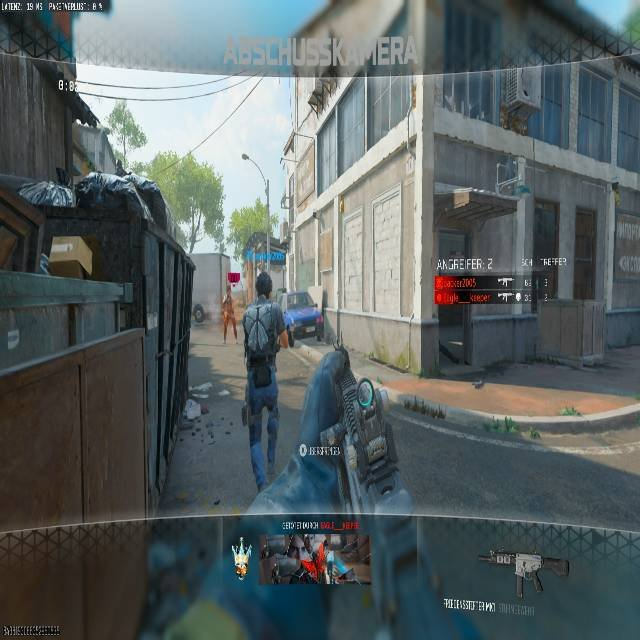head: (255, 271, 272, 299)
player: (214, 272, 306, 424), (240, 274, 292, 490), (221, 279, 239, 342)
